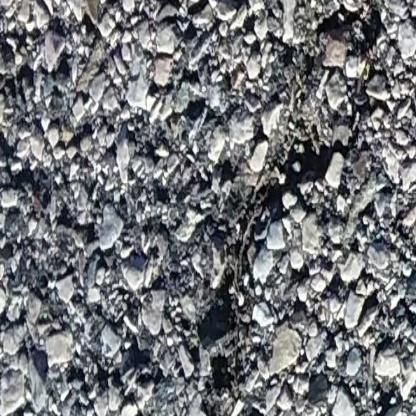Cracks: (188, 0, 386, 416)
